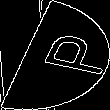P_W: (11, 30, 99, 80)
